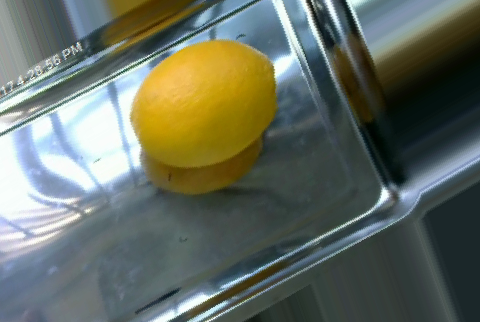Orange: (130, 39, 277, 168)
